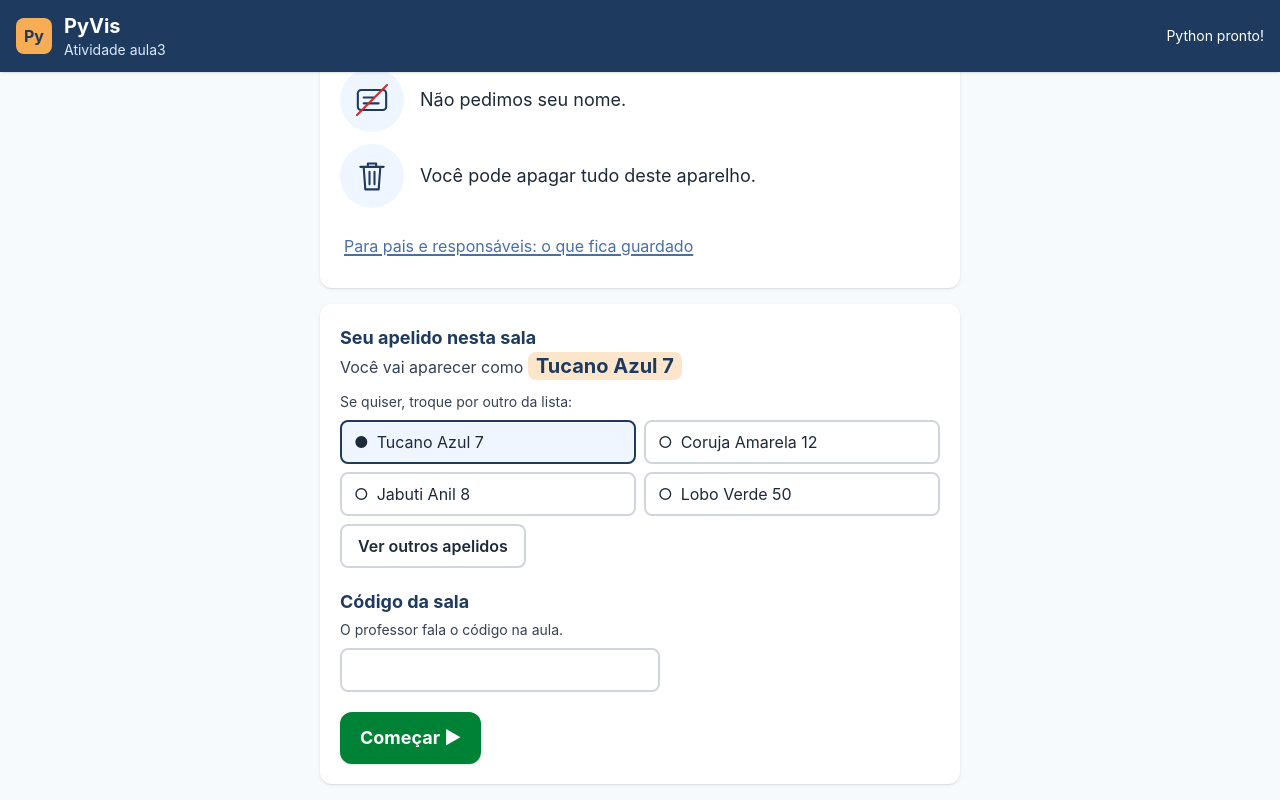
Test case: atividade por link › no estudo, cada programa tem a sua condição, e o Assistir não pede palpites
The width and height of the screenshot is (1280, 800).
(page scrolled)
Expected: the text "Tucano Azul 7" is shown, [528,352,682,380]
Type "k7px" into the field labelled "Código da sala" at (500, 670), box [340,648,660,692]
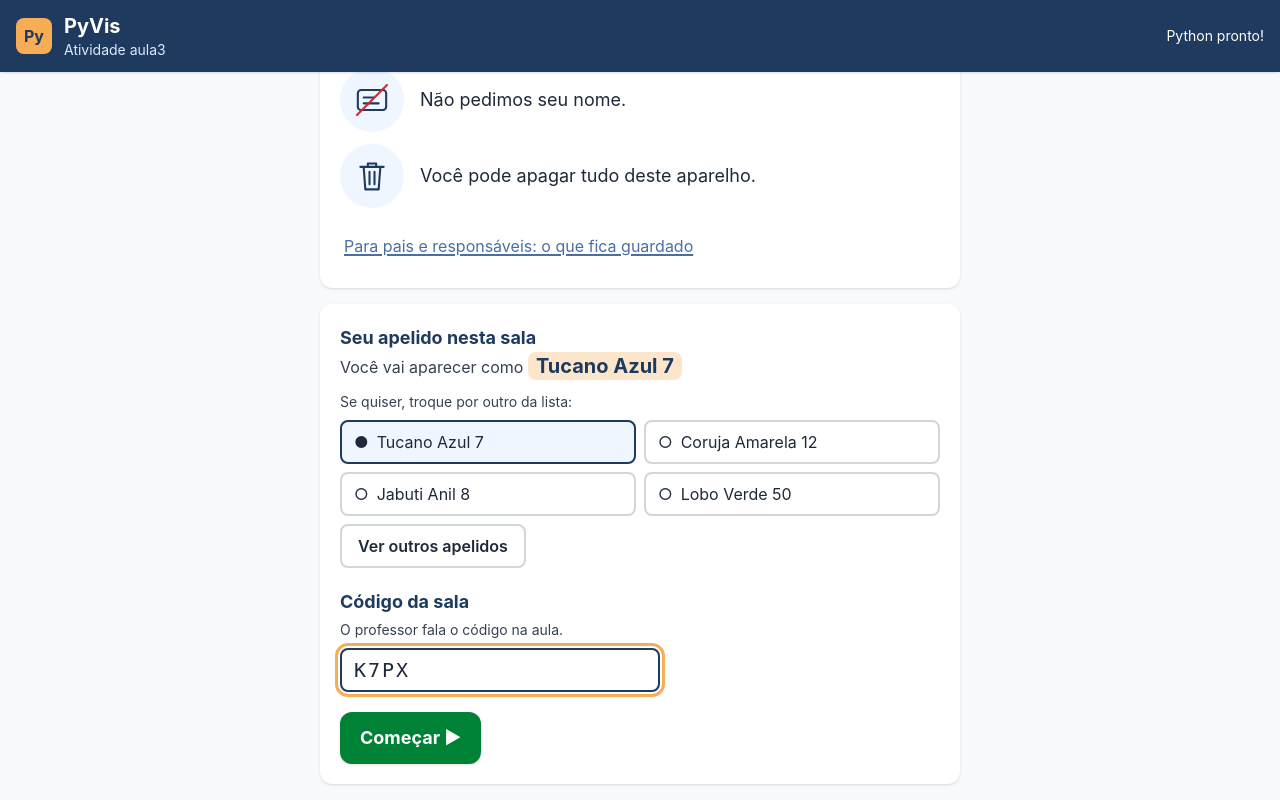
Click the button "Começar ▶" at (411, 738), box [340,712,482,764]
(page scrolled)
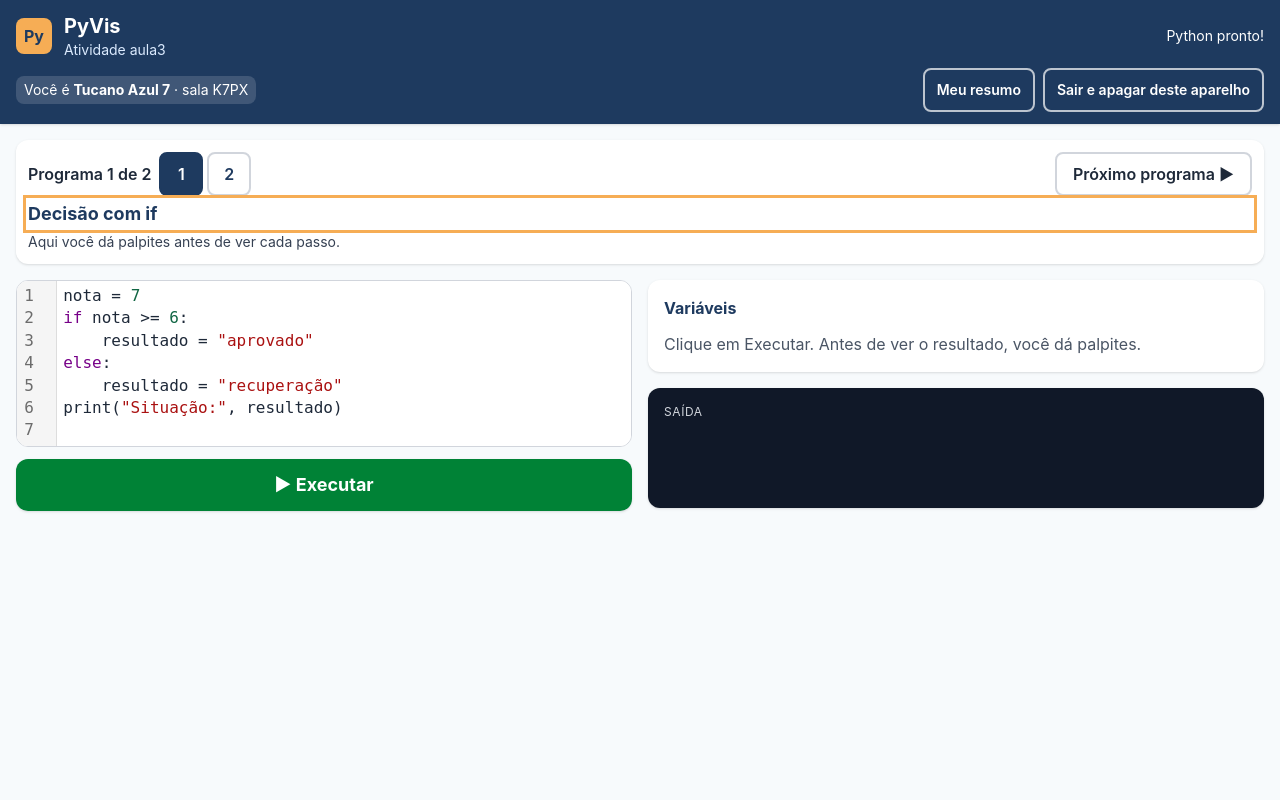
Expected: the text "Programa 1 de 2" is shown, [28,162,151,186]
Expected: the text "Aqui você dá palpites antes de ver cada passo." is shown, [28,233,340,250]
Click the button "Próximo programa ▶" at (1154, 174), box [1055,152,1252,196]
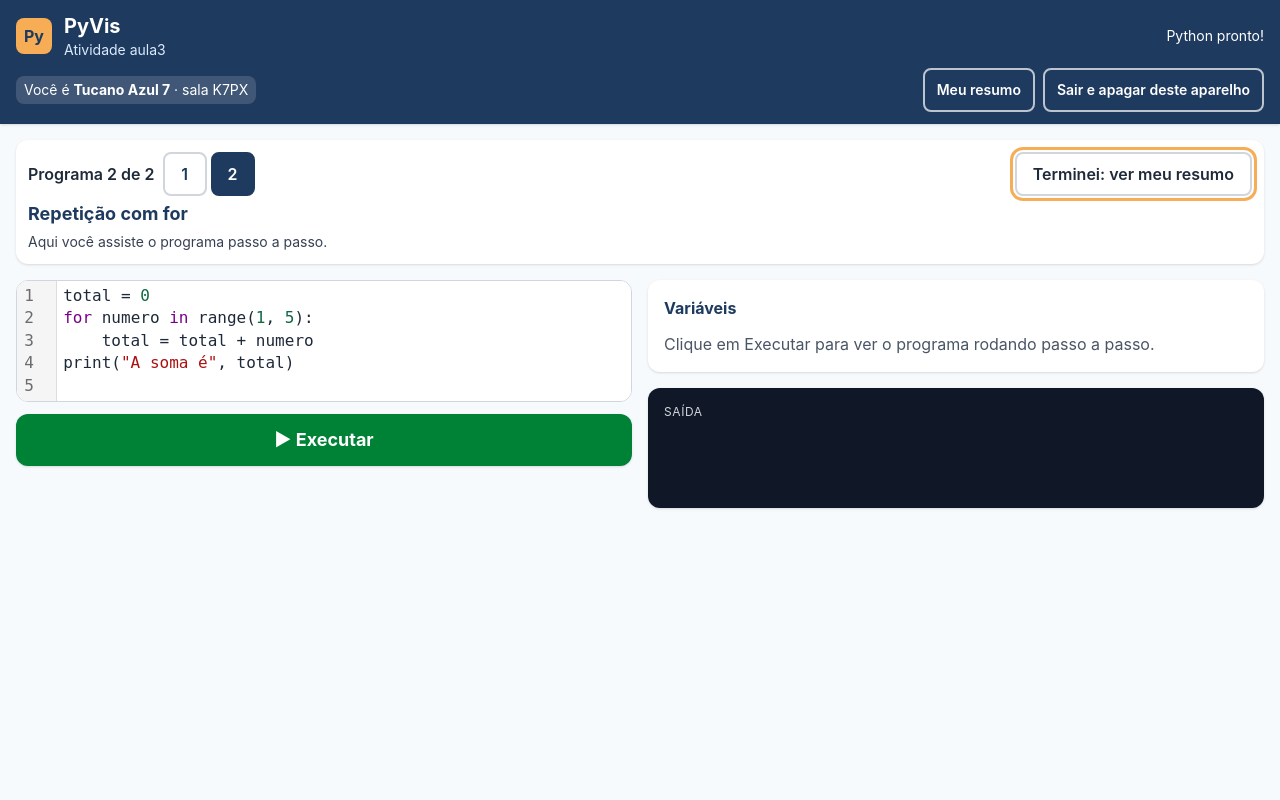
Expected: the text "Aqui você assiste o programa passo a passo." is shown, [28,233,327,250]
Click the button "▶ Executar" at (324, 440), box [16,414,632,466]
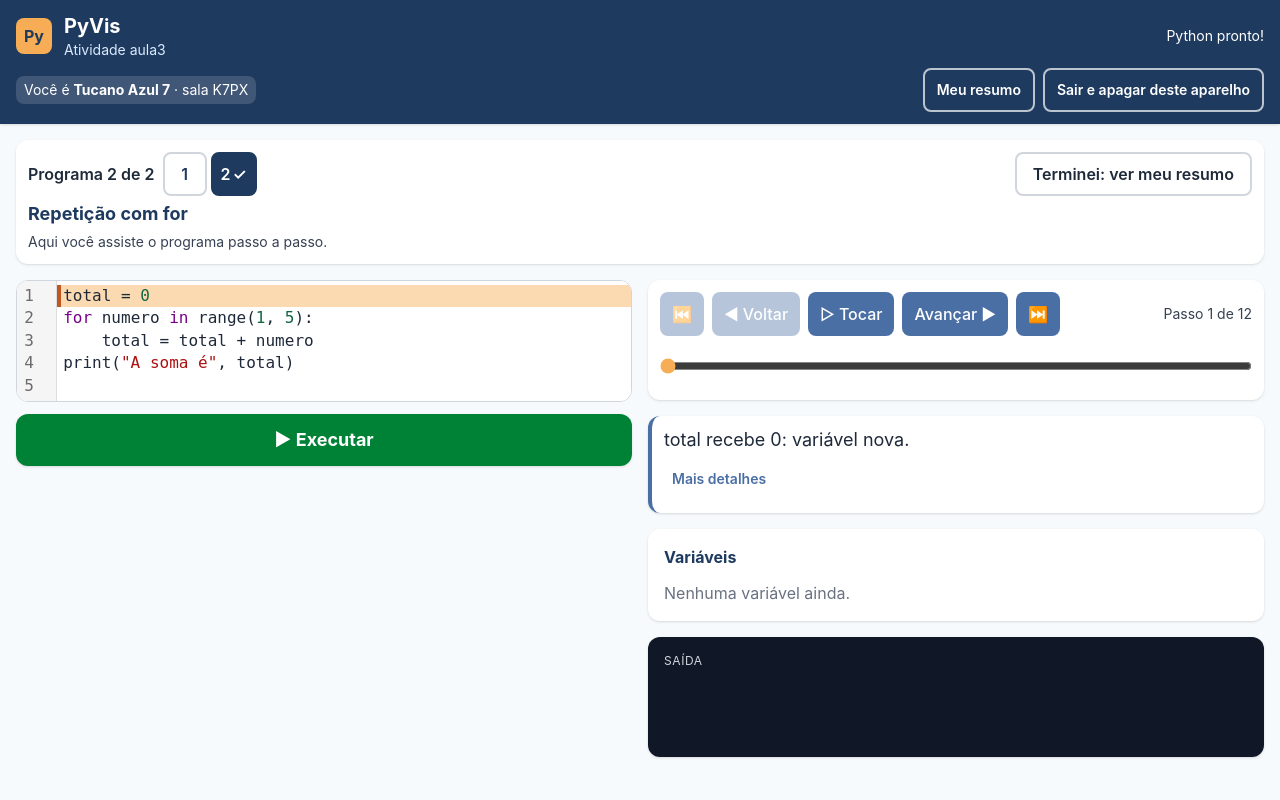
Expected: the text "total recebe 0: variável nova." is shown, [664,429,909,450]
